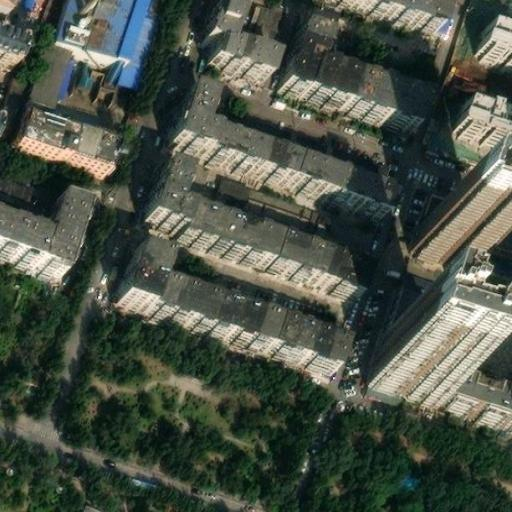building: (143, 161, 365, 295), (114, 241, 338, 369), (167, 91, 386, 220), (280, 16, 423, 126), (392, 359, 512, 424), (201, 0, 275, 76), (13, 112, 114, 167), (366, 332, 440, 404), (412, 210, 482, 268), (24, 39, 71, 120), (454, 97, 512, 143), (474, 23, 512, 63), (382, 295, 412, 338), (0, 29, 21, 63), (107, 58, 125, 78)
